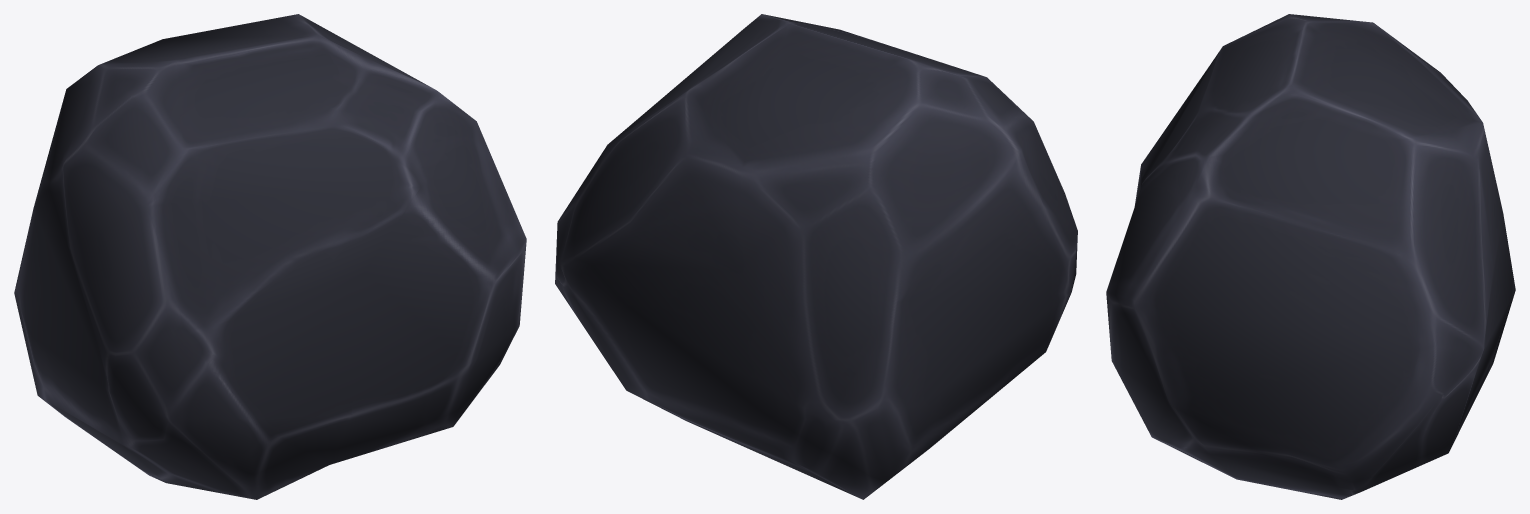
File: Stone_1_Variation_3.fbx
3 views of the same model, side by side, from view 1: azimuth 30°, elevation 25°; view 2: azimuth 150°, elevation 25°; view 3: azimuth 270°, elevation 25° (orthographic). The views are drawn at different scales.
Parts seen in each view (by area): view 1: Stone_1_Variation_3; view 2: Stone_1_Variation_3; view 3: Stone_1_Variation_3.
Boxes of the visible parts, x1,y1,x2,y2 form: Stone_1_Variation_3: (14, 14, 526, 499); Stone_1_Variation_3: (555, 14, 1077, 499); Stone_1_Variation_3: (1106, 14, 1515, 499).
Size of the model in its own units: 107 by 94.47 by 92.35.
